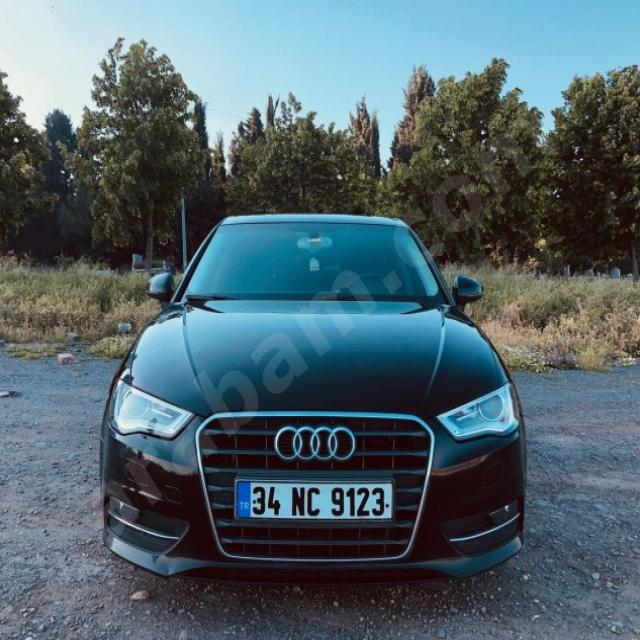license_plate: (236, 479, 394, 520)
